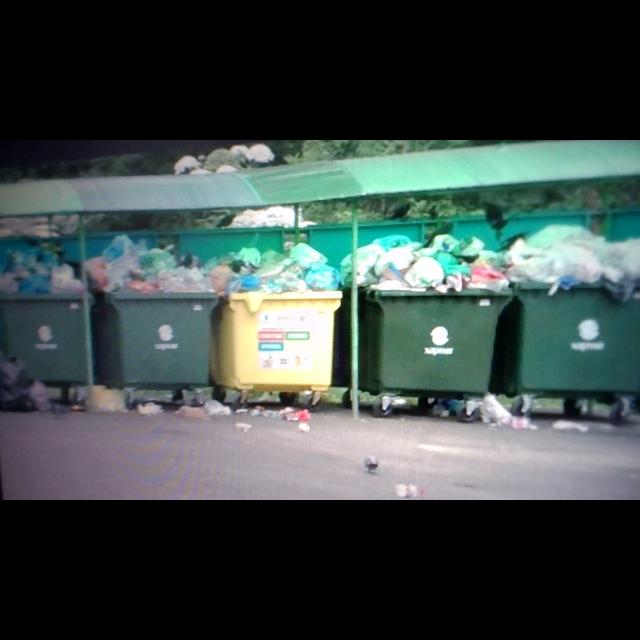Trash_Can_Full: (345, 233, 513, 393), (503, 223, 640, 395), (209, 242, 344, 391), (94, 234, 219, 391), (2, 244, 95, 385)
